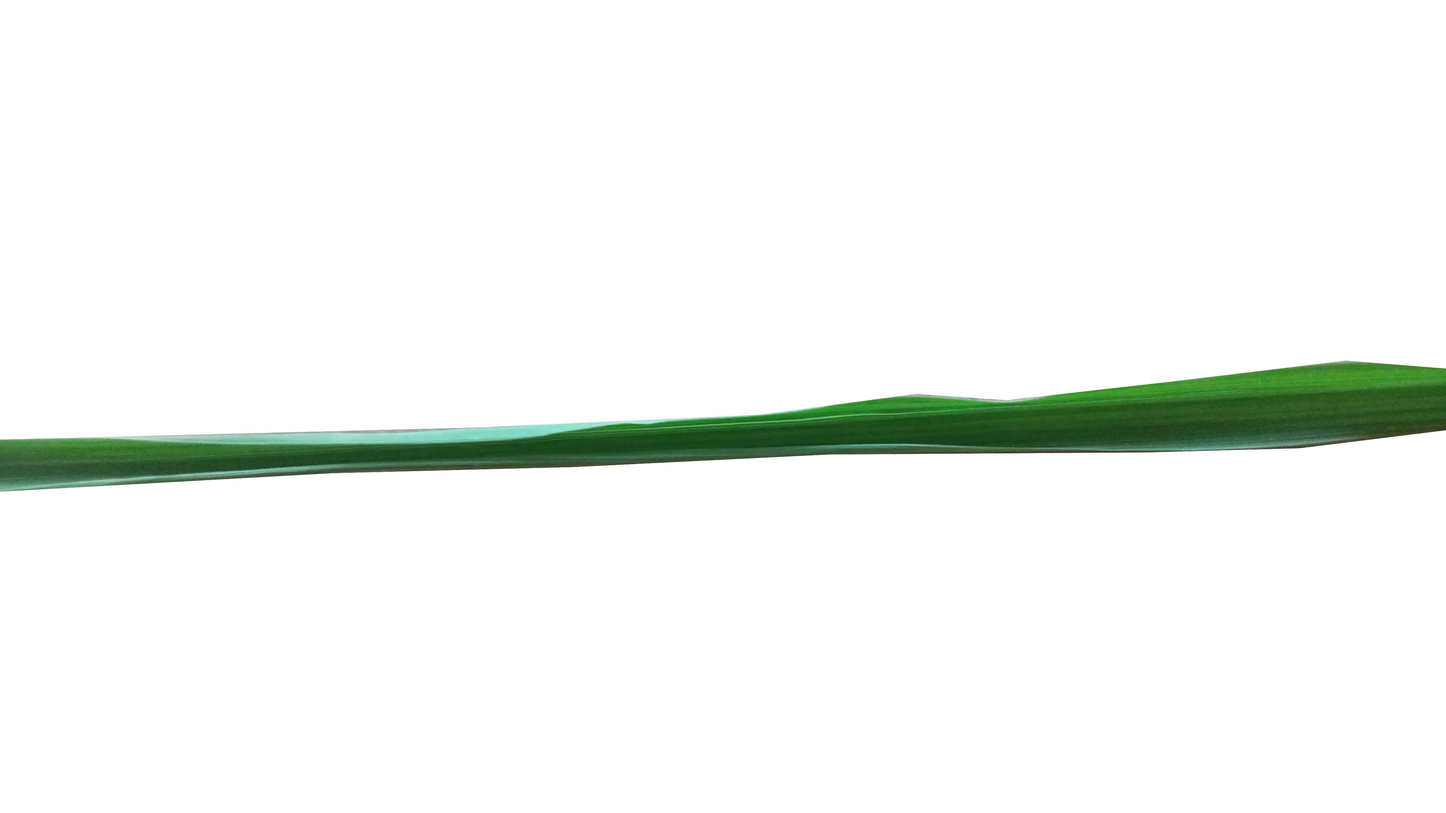Healthy: (0, 364, 1446, 493)
